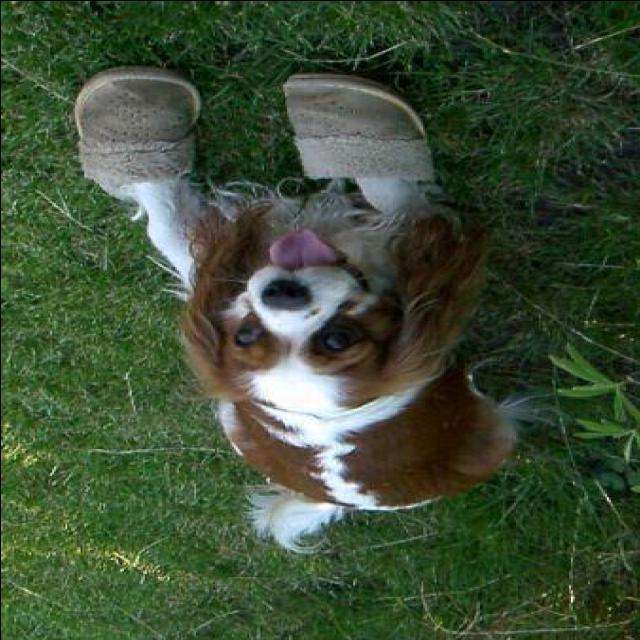blenheim_spaniel: (123, 167, 559, 558)
